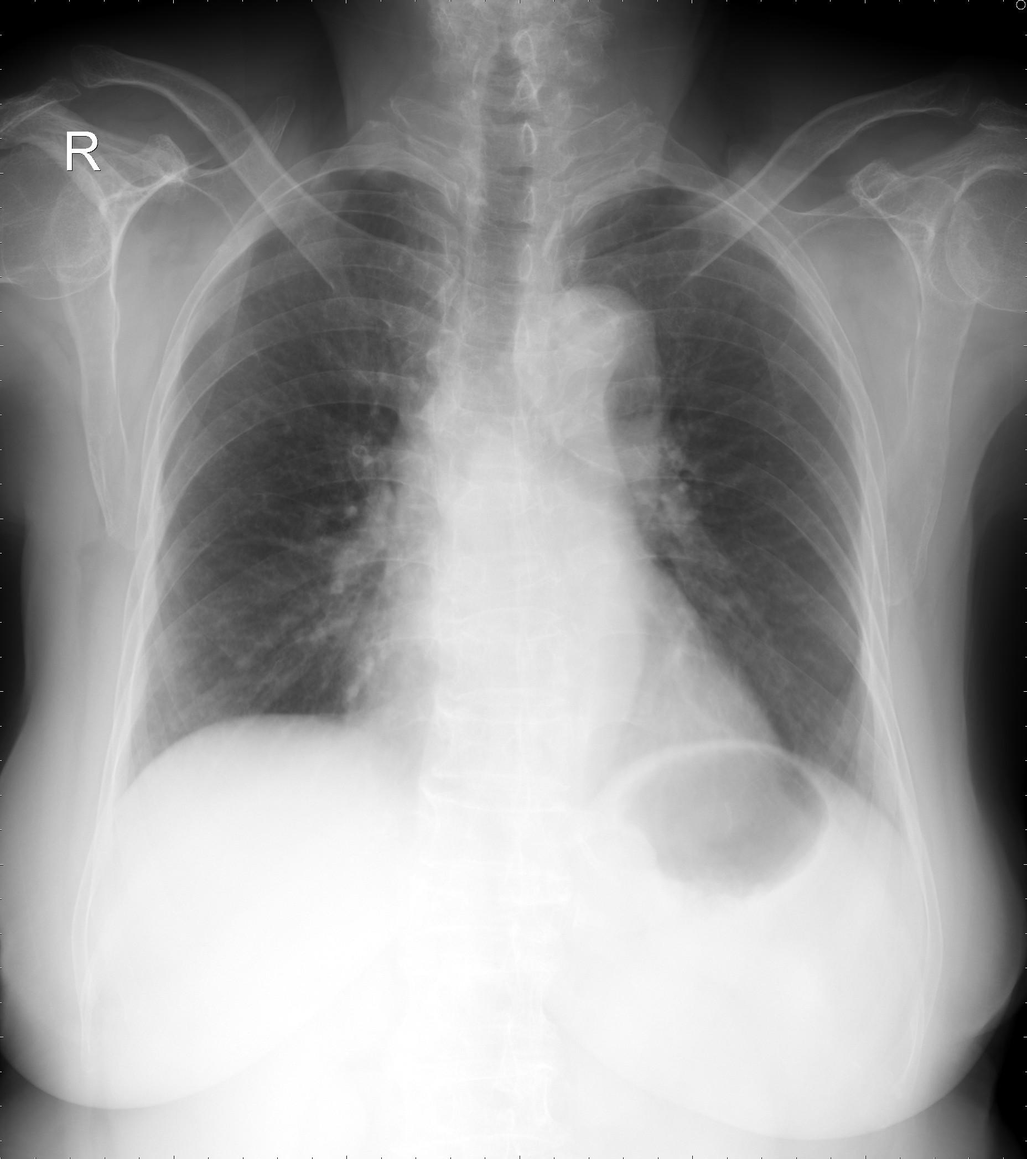Aortic enlargement: (521, 284, 663, 430)
Cardiomegaly: (343, 648, 785, 788)
Pleural thickening: (573, 180, 646, 229)
